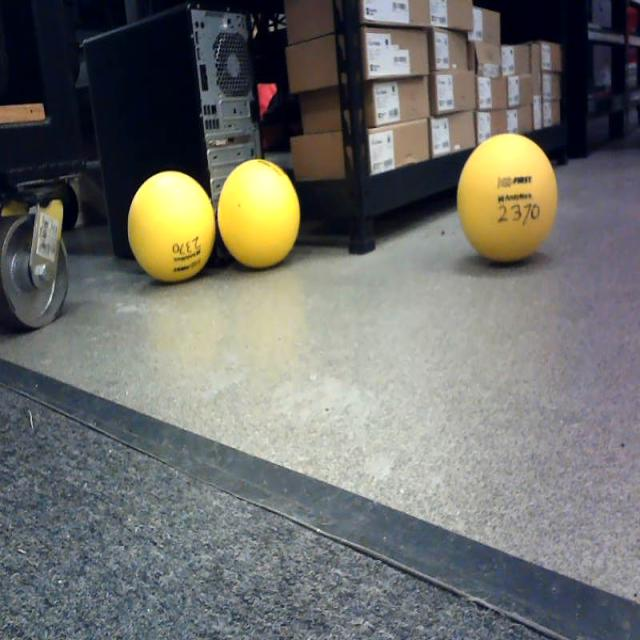Fuel: (457, 133, 557, 265), (127, 170, 216, 283), (218, 158, 300, 269)
